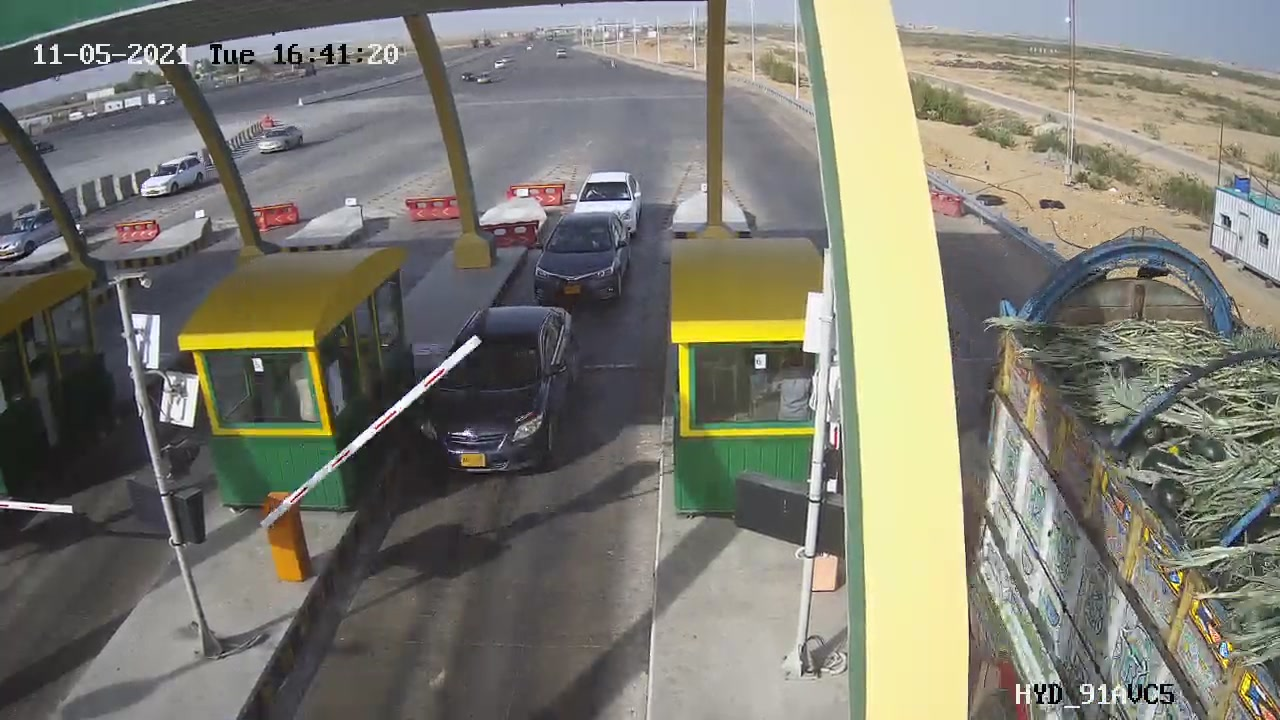F1: (398, 292, 602, 497), (516, 203, 646, 312)
